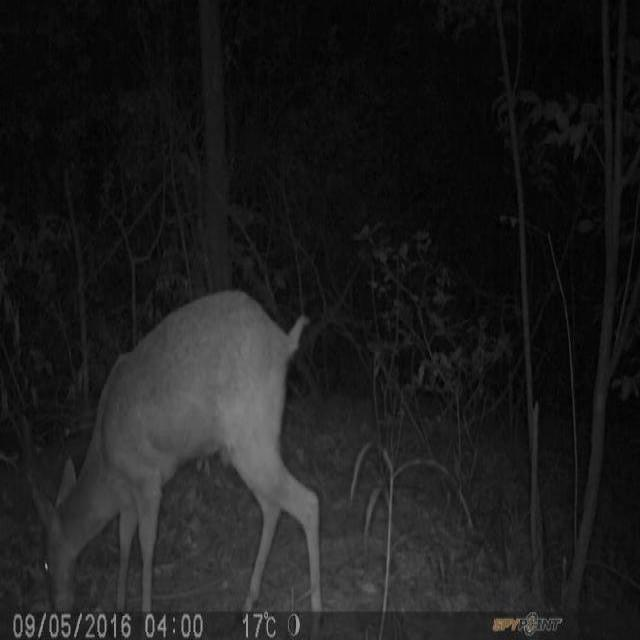deer: (32, 297, 323, 610)
